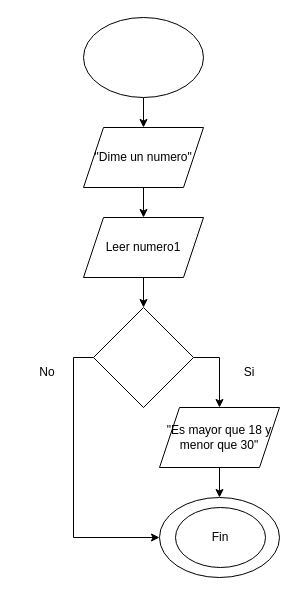
Image size: 297x595. Some labels were removed from this diagram. The shapes that lost their labels are listed below. From the top down, each one's centre as x and y in pixels, then its label:
(x=143, y=57): Inicio
(x=143, y=357): numero1 > 18 y < 30
